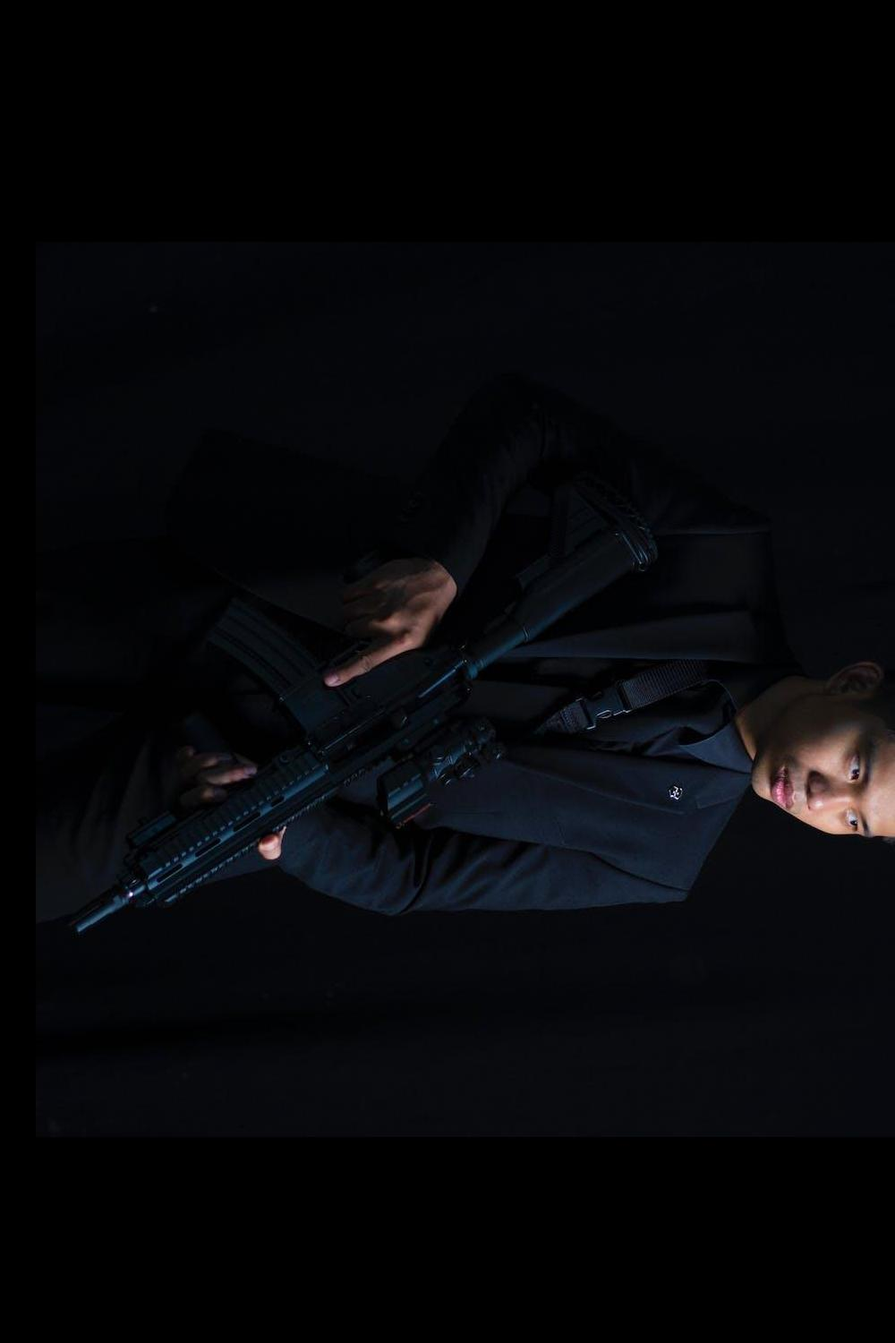larga: (76, 478, 664, 936)
